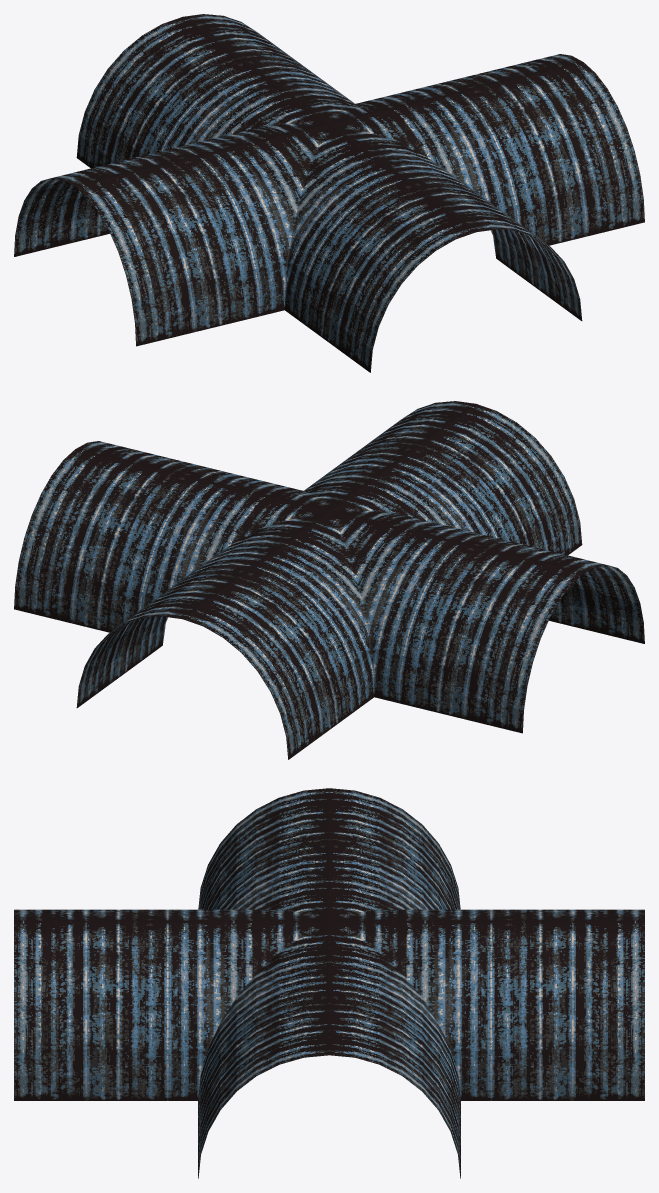
File: SM_EU_MetalTunnel_Cross_1.001.fbx
The picture shows the model from 3 angles, top to bottom: view 1: azimuth 30°, elevation 25°; view 2: azimuth 150°, elevation 25°; view 3: azimuth 270°, elevation 25°; orthographic projection. The views are drawn at different scales.
Visible parts, largest first — view 1: SM_EU_MetalTunnel_Cross_1.001; view 2: SM_EU_MetalTunnel_Cross_1.001; view 3: SM_EU_MetalTunnel_Cross_1.001.
Part boxes in pixels (x1,y1,x2,y2): SM_EU_MetalTunnel_Cross_1.001: (14,14,644,372); SM_EU_MetalTunnel_Cross_1.001: (14,401,644,759); SM_EU_MetalTunnel_Cross_1.001: (14,788,644,1178).
Bounding box in the file's own units: 12 × 12 × 2.6.
